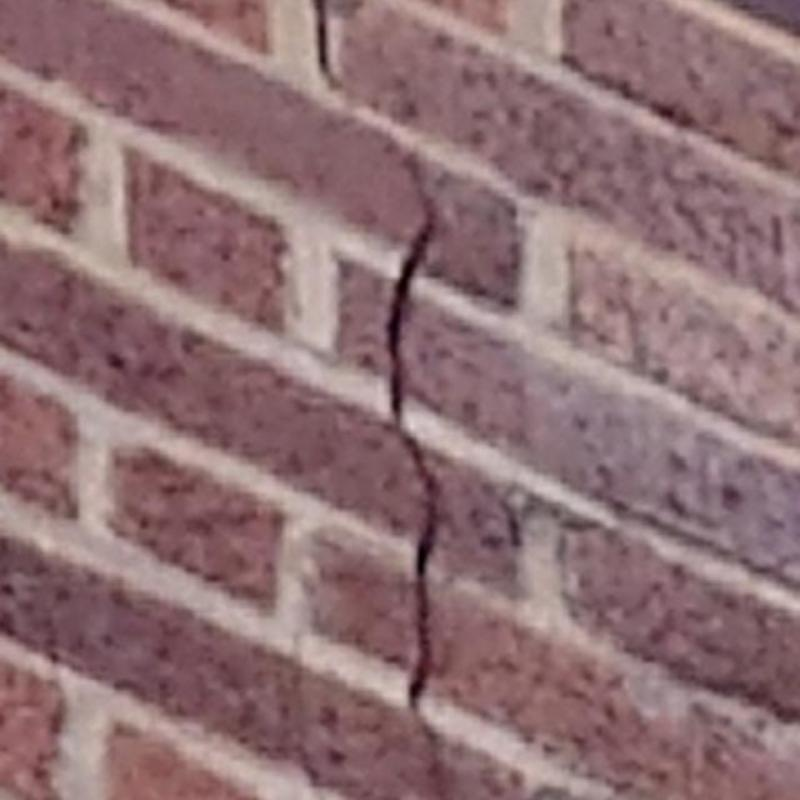pothole: (386, 156, 439, 710), (313, 0, 351, 94)
